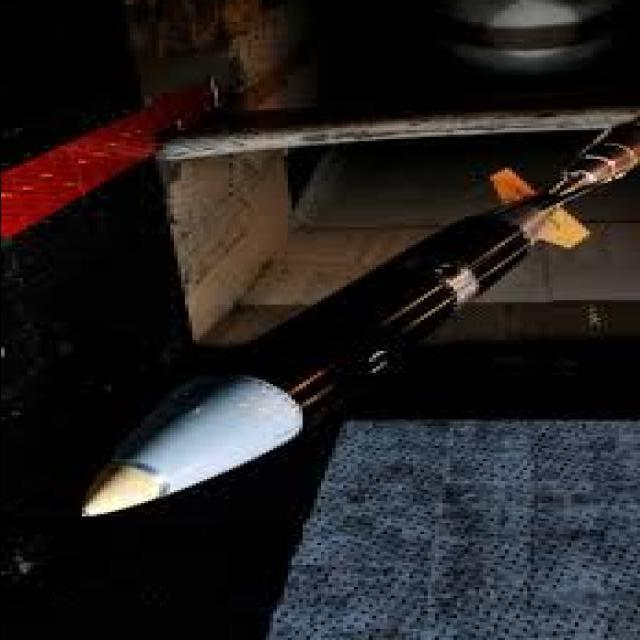Missile: (77, 143, 640, 560)
